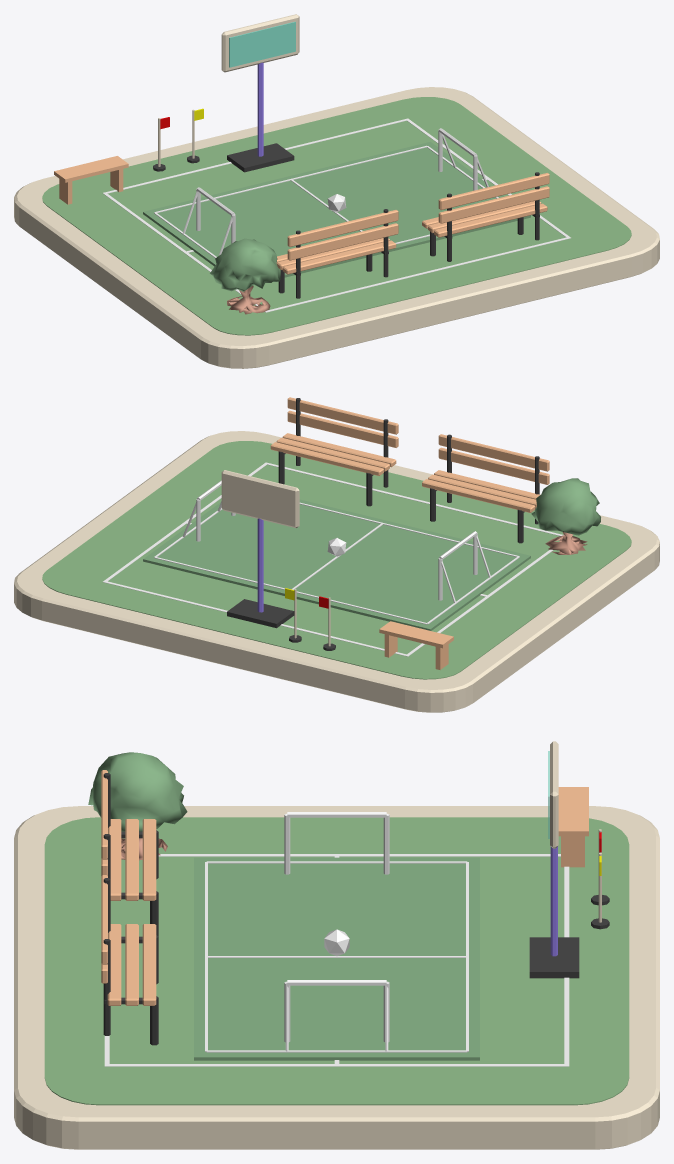
3 renders of one model, top to bottom at view 1: azimuth 30°, elevation 25°; view 2: azimuth 150°, elevation 25°; view 3: azimuth 270°, elevation 25°, orthographic. The views are drawn at different scales.
Parts seen in each view (by area): view 1: COM-02 Floor Surface, COM-01 Rounded Base Direct, Court surface, 둥근 수관 나무, Inset, Back slat, Back slat.002, Back slat.001, Back slat.003, Sign panel, Foot, Bench seat (+8 smaller); view 2: COM-02 Floor Surface, COM-01 Rounded Base Direct, Court surface, 둥근 수관 나무, Sign panel, Back slat.002, Back slat.003, Back slat, Back slat.001, Foot, Seat slat.003, Seat slat (+12 smaller); view 3: COM-02 Floor Surface, Court surface, COM-01 Rounded Base Direct, 둥근 수관 나무, Foot, Bench seat, Court outer line.001, Seat slat, Seat slat.003, Court outer line, Seat slat.001, Seat slat.004 (+10 smaller).
Boxes of the visible parts, x1,y1,x2,y2 form: COM-02 Floor Surface: [42, 97, 631, 335]; COM-01 Rounded Base Direct: [14, 87, 659, 368]; Court surface: [143, 141, 530, 277]; 둥근 수관 나무: [210, 238, 280, 314]; Inset: [229, 21, 295, 67]; Back slat: [287, 223, 398, 260]; Back slat.002: [438, 186, 549, 223]; Back slat.001: [287, 210, 398, 246]; Back slat.003: [438, 173, 549, 210]; Sign panel: [221, 14, 299, 72]; Foot: [227, 143, 294, 172]; Bench seat: [54, 156, 128, 182]; COM-02 Floor Surface: [42, 441, 631, 679]; COM-01 Rounded Base Direct: [14, 431, 659, 712]; Court surface: [143, 499, 530, 630]; 둥근 수관 나무: [531, 478, 600, 554]; Sign panel: [221, 470, 299, 528]; Back slat.002: [287, 410, 398, 447]; Back slat.003: [287, 397, 398, 434]; Back slat: [438, 447, 549, 484]; Back slat.001: [438, 434, 549, 471]; Foot: [227, 599, 294, 628]; Seat slat.003: [270, 442, 383, 475]; Seat slat: [422, 479, 535, 512]; COM-02 Floor Surface: [44, 817, 629, 1105]; Court surface: [194, 857, 479, 1060]; COM-01 Rounded Base Direct: [14, 806, 659, 1149]; 둥근 수관 나무: [88, 752, 187, 860]; Foot: [529, 937, 579, 978]; Bench seat: [558, 787, 588, 836]; Court outer line.001: [107, 1064, 566, 1066]; Seat slat: [142, 819, 156, 900]; Seat slat.003: [142, 924, 156, 1005]; Court outer line: [158, 854, 560, 856]; Seat slat.001: [125, 819, 138, 900]; Seat slat.004: [125, 924, 138, 1005].
Size of the model in its own units: 6 by 2.02 by 5.2.
1 material, 1 textured.
